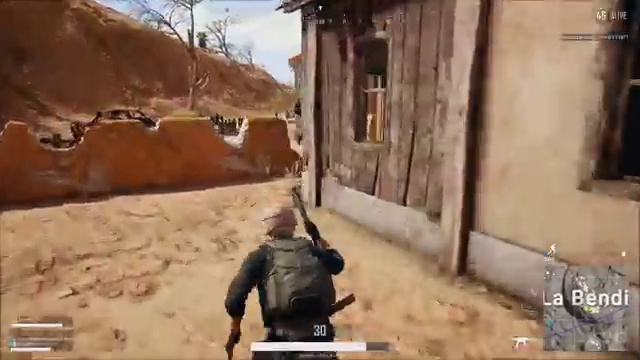Player: (200, 184, 388, 322)
